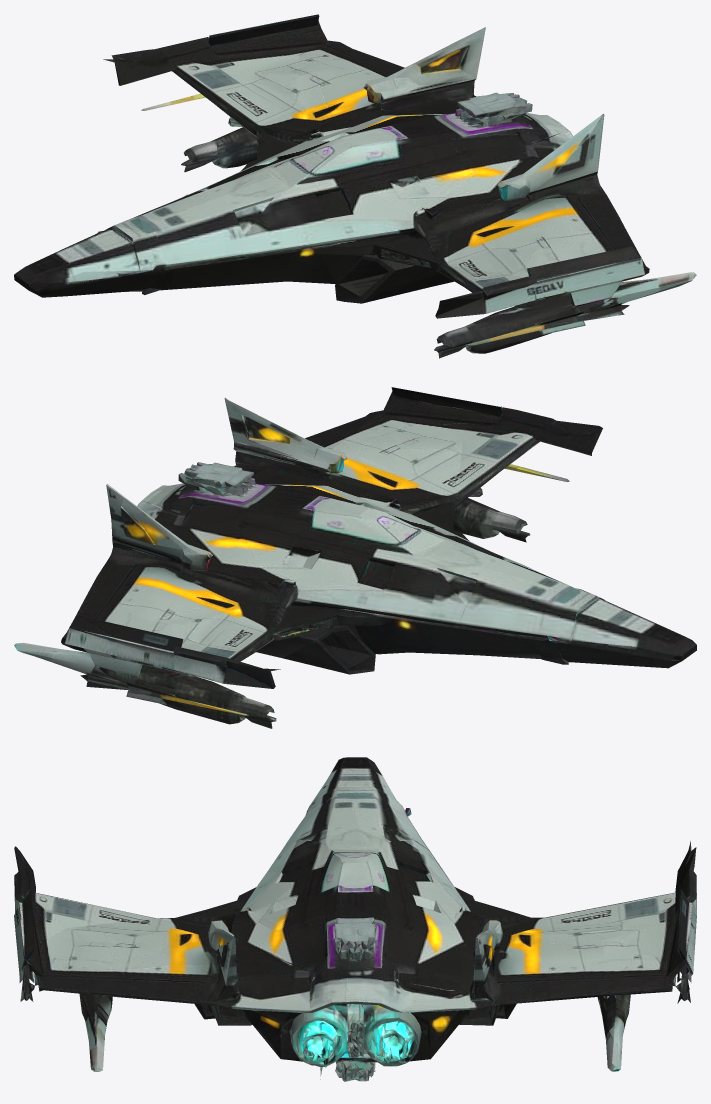
Rendered from vessel-raptor.glb.
The picture shows the model from 3 angles, top to bottom: view 1: azimuth 30°, elevation 25°; view 2: azimuth 150°, elevation 25°; view 3: azimuth 270°, elevation 25°; orthographic projection. The views are drawn at different scales.
Size of the model in its own units: 1.8 by 0.4747 by 1.9.
1 material, 1 textured.
